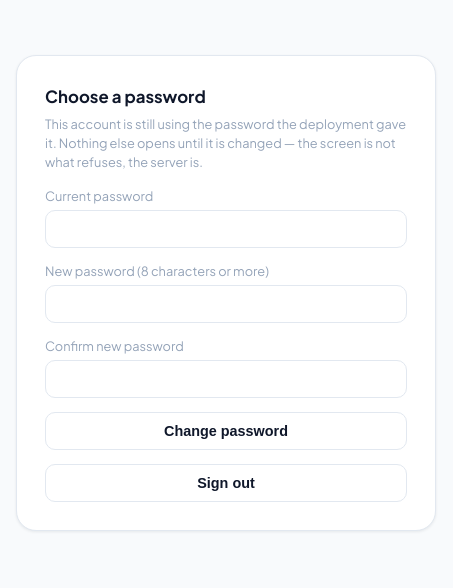
what leaves the browser when the button is pressed › does not send a password the person has not confirmed
Type "the-seeded-one" into the password field below "Current password" at (226, 229), box left=45, top=210, right=407, bottom=248
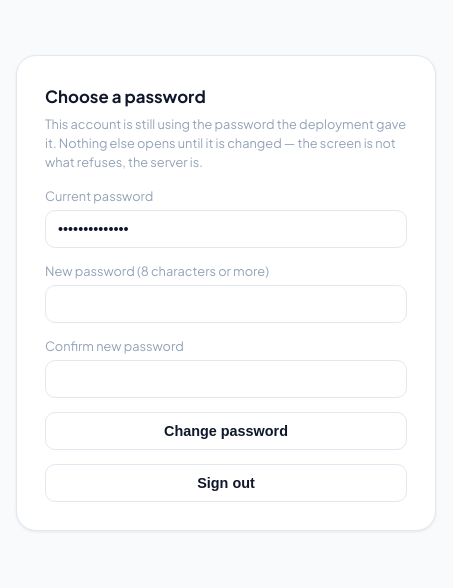
Type "chosen-by-the-operator" into the password field below "New password (8 characters or more)" at (226, 304), box left=45, top=285, right=407, bottom=323
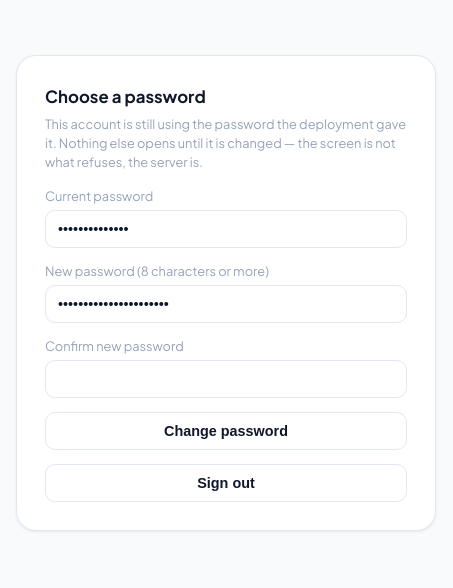
Type "chosen-by-the-oprator" into the password field below "Confirm new password" at (226, 379), box left=45, top=360, right=407, bottom=398
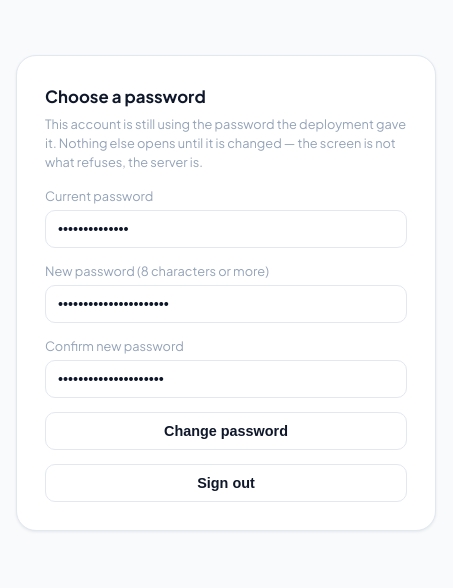
Click the submit button at (226, 431), box left=45, top=412, right=407, bottom=450
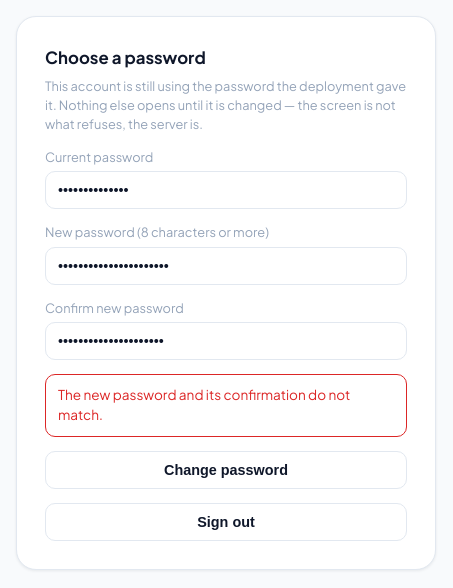
Expected: the submit button is enabled, left=45, top=450, right=407, bottom=488
Expected: the text with test id "change-password-error" reads "The new password and its confirmation do not match.", left=58, top=386, right=350, bottom=423
